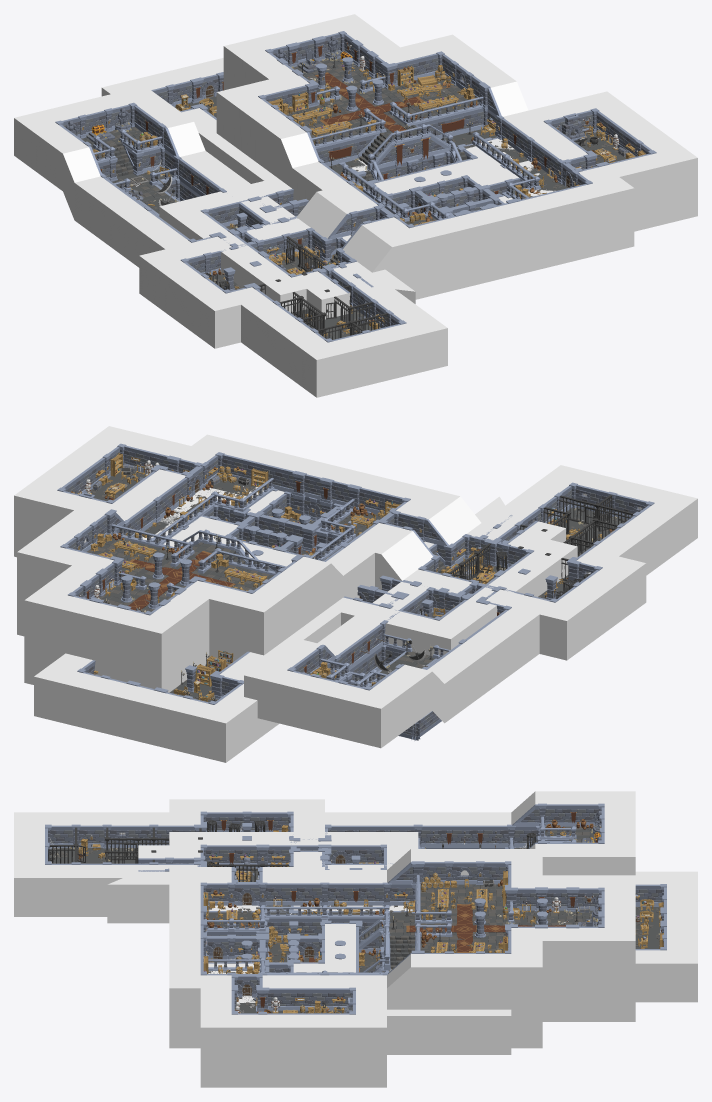
File: test_dungeon_scene_light.glb
3 renders of one model, top to bottom at view 1: azimuth 30°, elevation 25°; view 2: azimuth 150°, elevation 25°; view 3: azimuth 270°, elevation 25°, orthographic. The views are drawn at different scales.
Parts seen in each view (by area): view 1: Ceiling.001, Ceiling, Wall_Stairs_Fence.003, Ground_Tiles_Large.003; view 2: Ceiling.001, Ceiling; view 3: Ceiling.001, Ceiling, Wall.452, Ground_Tiles_Large.004, Stairs.008, Wall.447, Wall.453, Wall.242, Wall.207, Ground_Large.014, Wall.498, Wall.434 (+14 smaller).
Part boxes in pixels (x1,y1,x2,y2): Ceiling.001: (14,14,697,397); Ceiling: (101,58,568,319); Wall_Stairs_Fence.003: (367,132,396,171); Ground_Tiles_Large.003: (394,75,463,106); Ceiling.001: (14,426,697,748); Ceiling: (34,487,577,762); Ceiling.001: (14,791,635,1087); Ceiling: (107,832,697,1054); Wall.452: (449,825,480,847); Ground_Tiles_Large.004: (514,910,573,926); Stairs.008: (389,935,415,969); Wall.447: (480,825,508,847); Wall.453: (420,825,449,847); Wall.242: (265,883,293,905); Wall.207: (356,883,384,905); Ground_Large.014: (49,848,106,863); Wall.498: (545,804,573,826); Wall.434: (293,988,324,1010).
Size of the model in its own units: 19 by 3.78 by 22.
3 materials, 1 textured.
